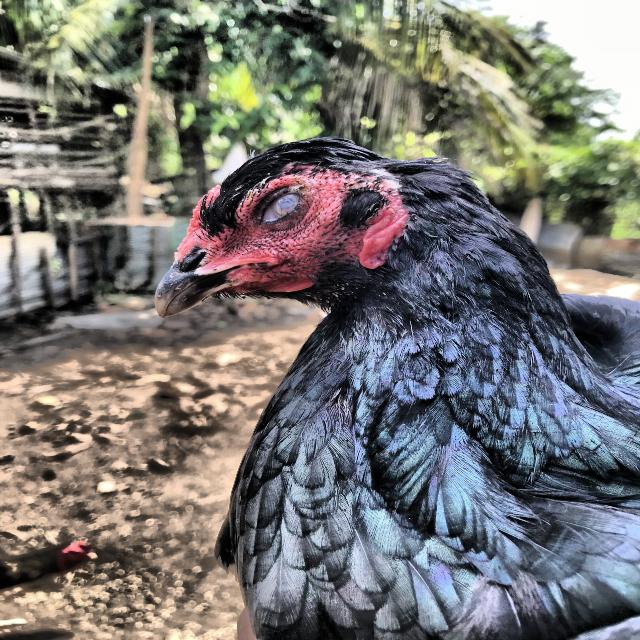Coryza: (148, 122, 638, 578)
